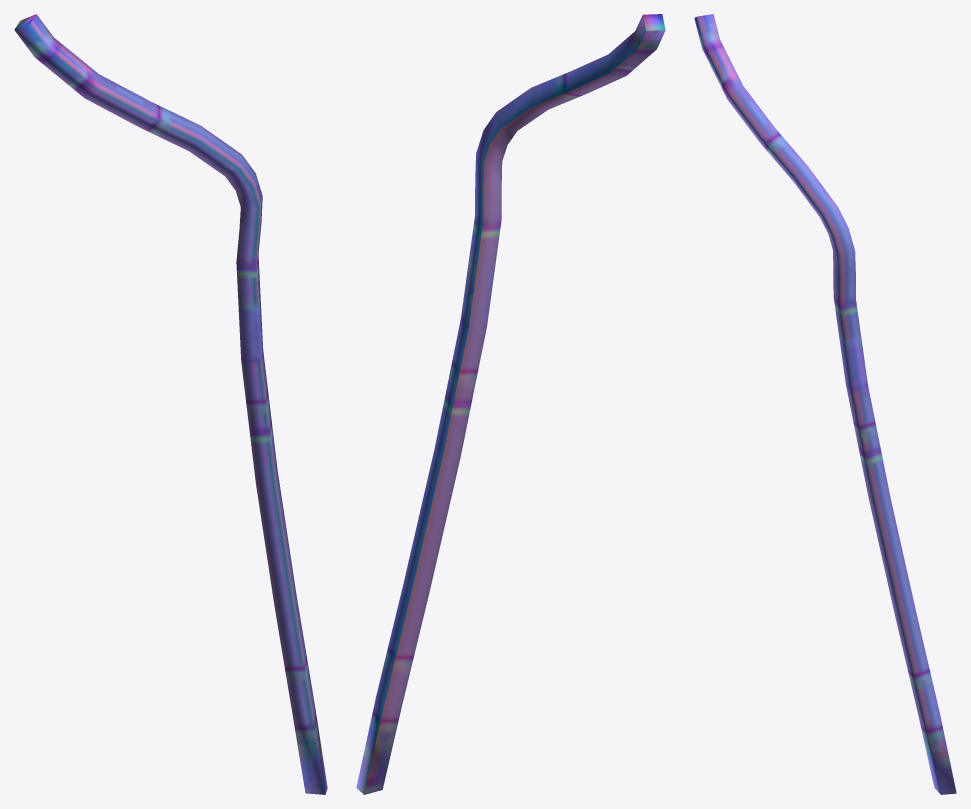
The model's file is ship_debris_05_part_22.glb.
3 views of the same model, side by side, from view 1: azimuth 30°, elevation 25°; view 2: azimuth 150°, elevation 25°; view 3: azimuth 330°, elevation 25° (orthographic). The views are drawn at different scales.
Visible parts, largest first — view 1: ship_debris_05_part_22; view 2: ship_debris_05_part_22; view 3: ship_debris_05_part_22.
Boxes of the visible parts, x1=… form: ship_debris_05_part_22: x1=14, y1=14, x2=327, y2=794; ship_debris_05_part_22: x1=356, y1=14, x2=665, y2=794; ship_debris_05_part_22: x1=694, y1=14, x2=956, y2=794.
Bounding box in the file's own units: 1.31 × 3.4 × 0.3288.
1 material, 1 textured.
